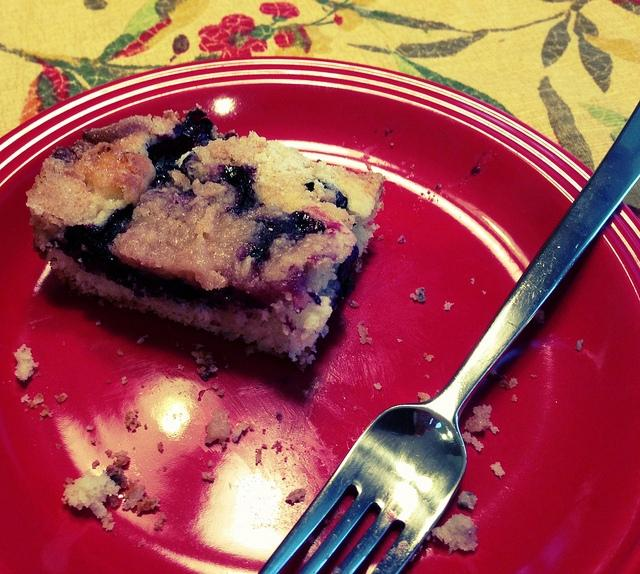blueberry: (51, 203, 266, 310), (236, 210, 326, 266), (146, 134, 196, 190), (220, 165, 258, 216), (172, 107, 216, 147), (304, 180, 348, 210), (338, 244, 360, 290)
